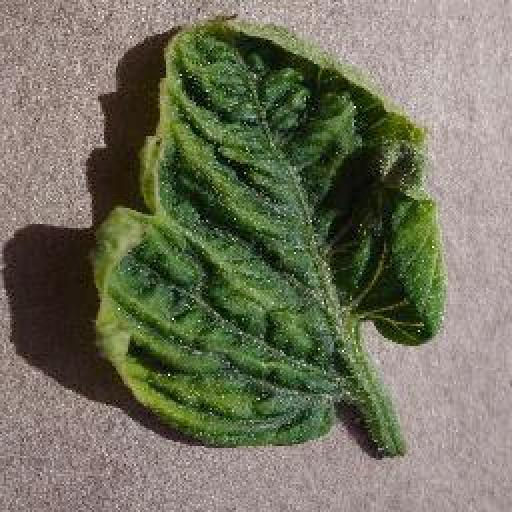disease_tomato: (90, 12, 446, 446)
